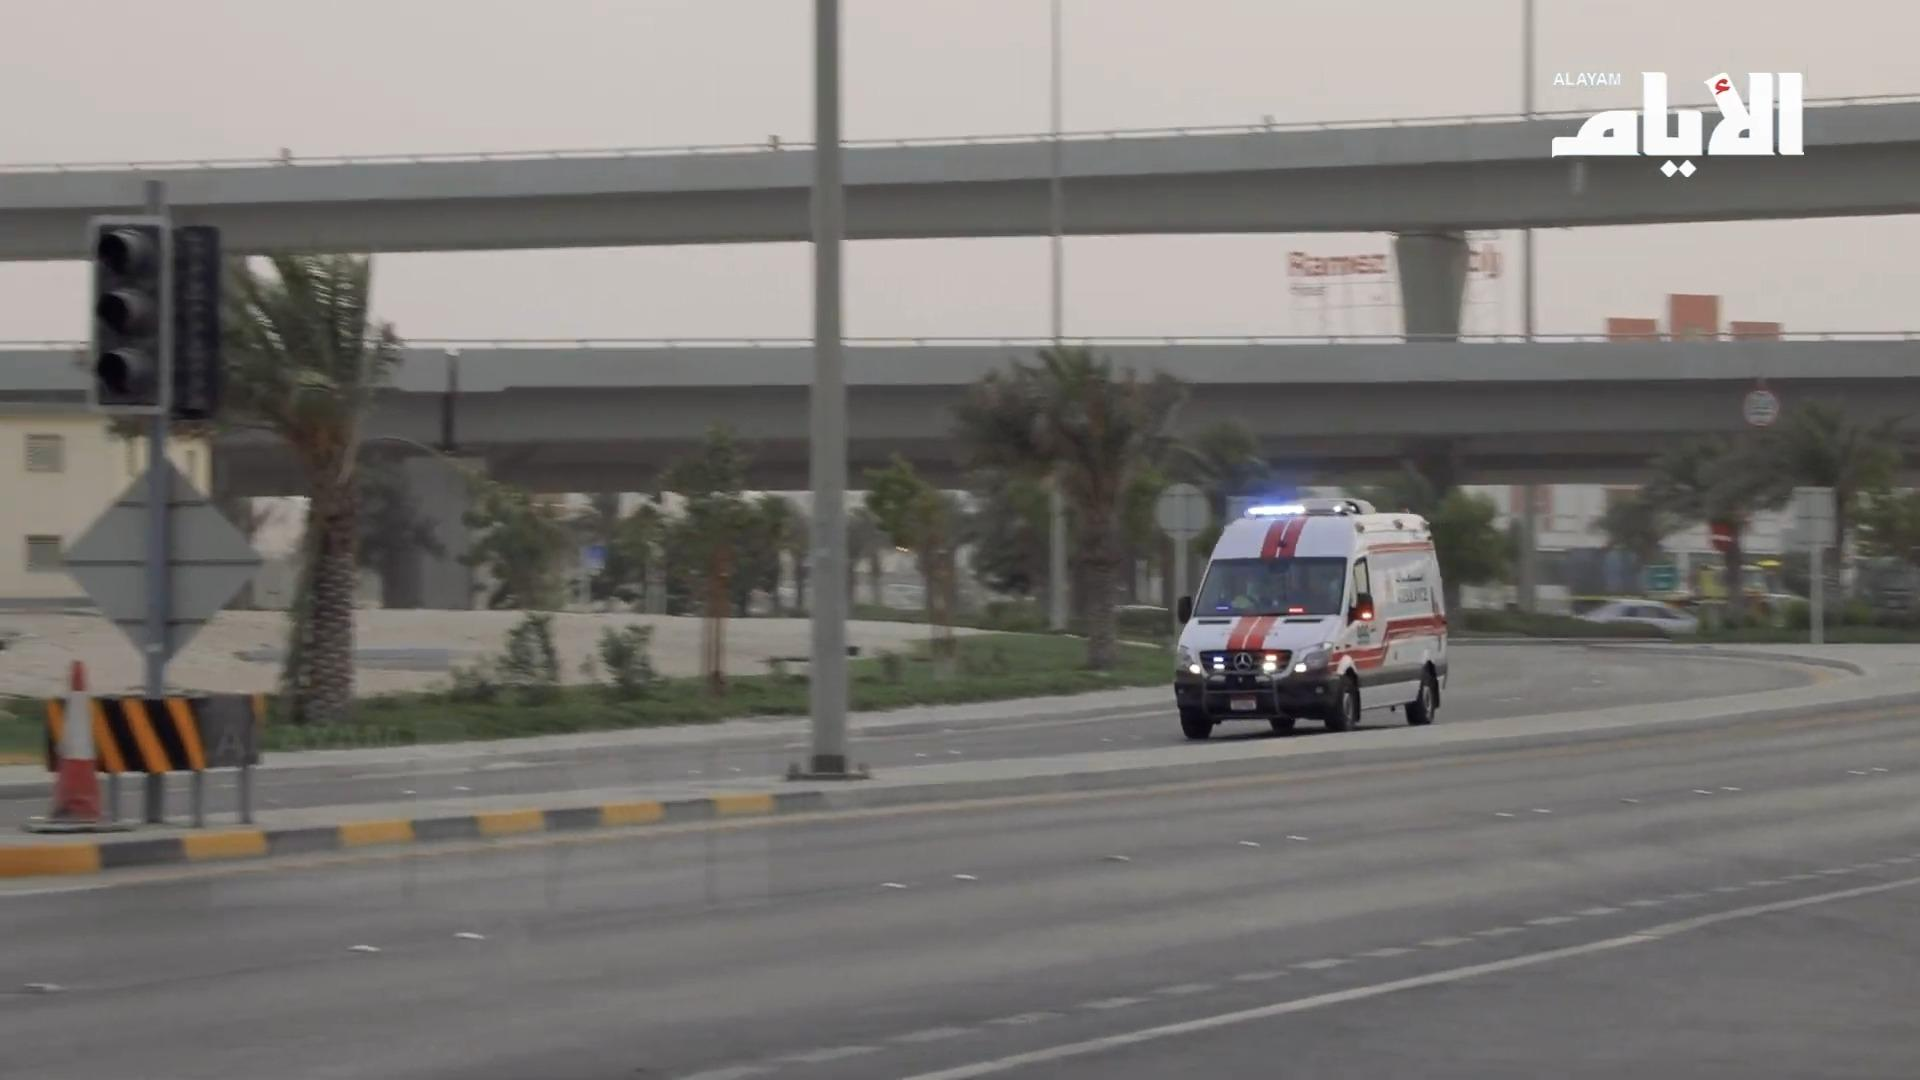ambulance_on: (1172, 497, 1449, 733)
